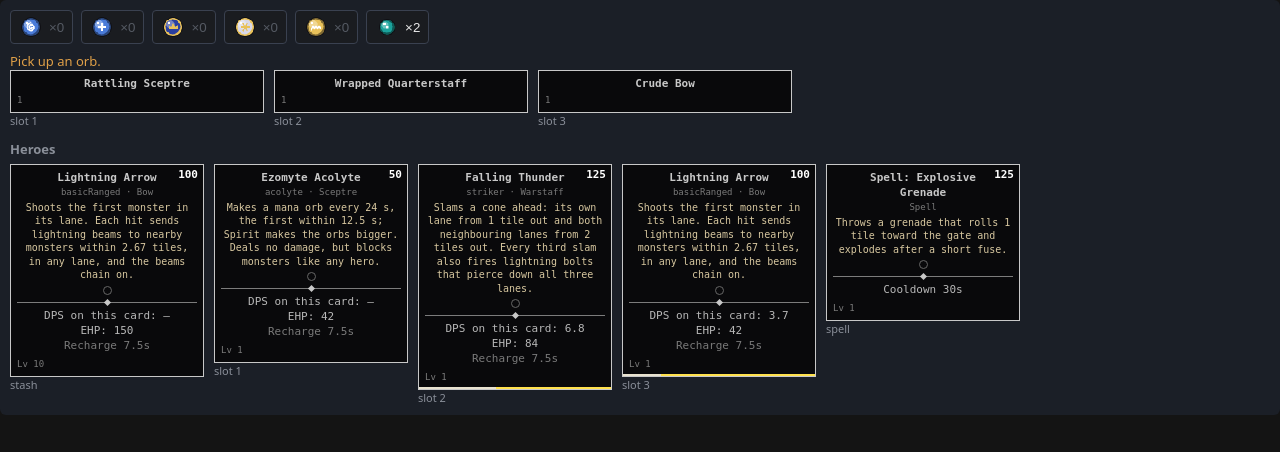
the Jeweller's Orb in the Craft tab (H §9.2) › dropping it on a hero opens a socket, fills it, and spends the orb
Step 1. Click the button with test id "orb-jeweller" → coordinates (398, 27), box [366,10,429,44]
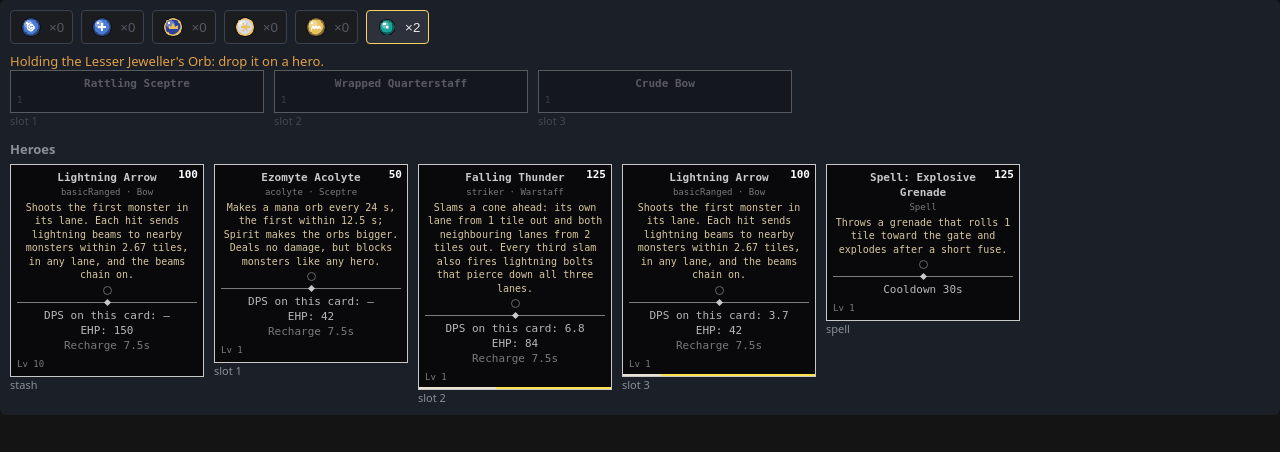
Step 2. Click the element that starts with "Lightning Arrow" → coordinates (107, 278), box [10,164,204,392]
Wait 1000 ms
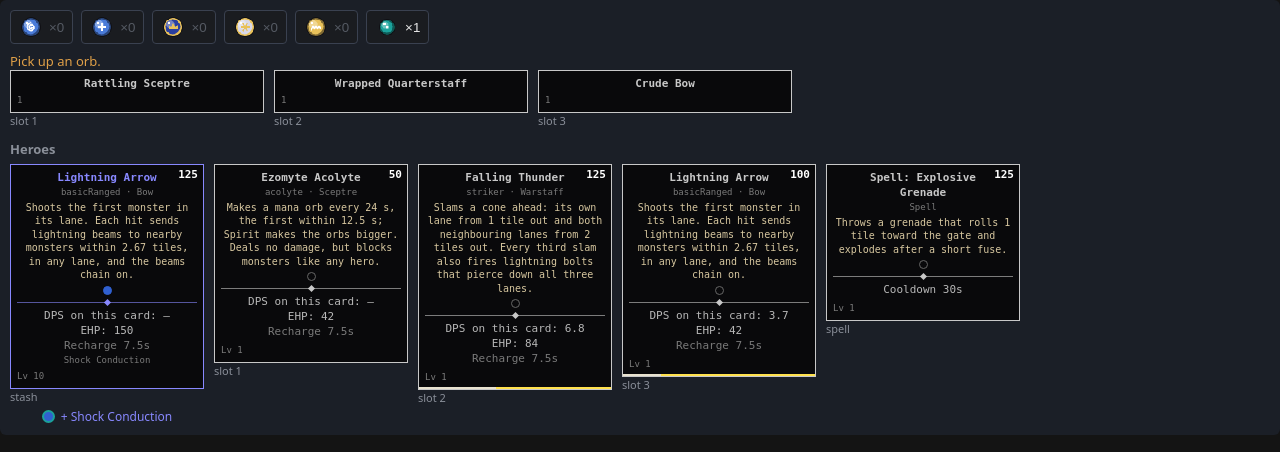
expect the element with test id "socket-open" is shown: met, box [42,410,55,423]
